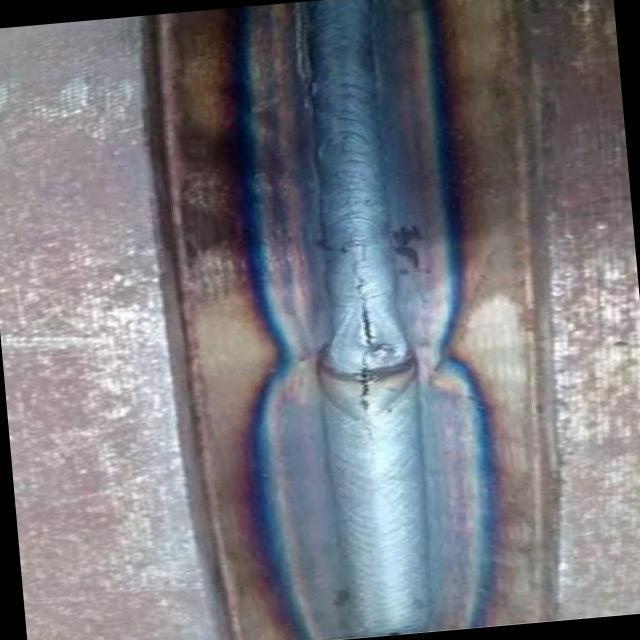defect: (336, 231, 378, 415)
